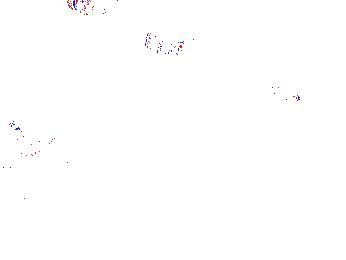X-ray fish: (69, 1, 124, 16)
glassfish: (1, 113, 55, 154)
red belly glassfish: (174, 35, 196, 57)
redtail glassfish: (242, 67, 302, 106), (293, 83, 346, 108), (142, 26, 174, 61)
